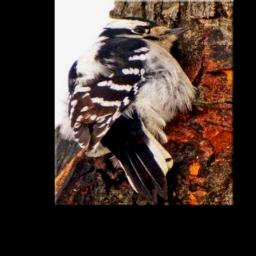Woodpecker: (58, 13, 231, 204)
